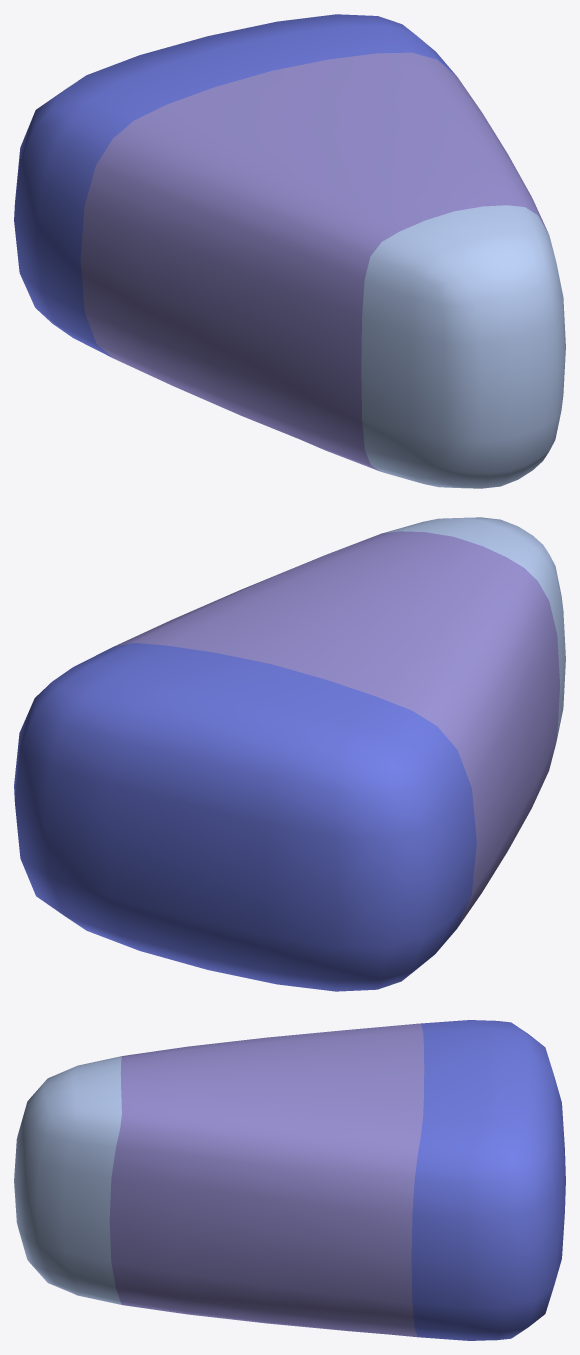
The model's file is Gummy_A_03.fbx.
The picture shows the model from 3 angles, top to bottom: view 1: azimuth 30°, elevation 25°; view 2: azimuth 150°, elevation 25°; view 3: azimuth 270°, elevation 25°; orthographic projection. The views are drawn at different scales.
Parts seen in each view (by area): view 1: Gummy_A_03_LOD0; view 2: Gummy_A_03_LOD0; view 3: Gummy_A_03_LOD0.
Part boxes in pixels (x1,y1,x2,y2): Gummy_A_03_LOD0: (14,14,565,488); Gummy_A_03_LOD0: (14,517,565,991); Gummy_A_03_LOD0: (14,1020,565,1340).
Size of what is drawn, in the model's own units: 314 by 194 by 433.
